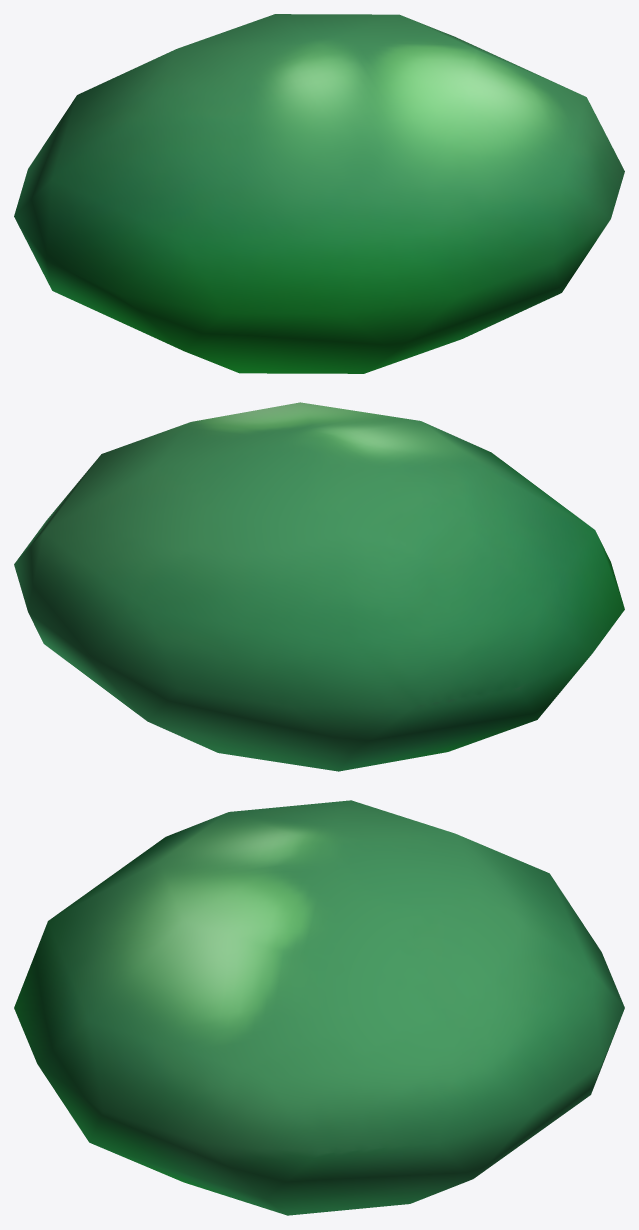
File: candypillgreen.fbx
3 views of the same model, one above another, from view 1: azimuth 30°, elevation 25°; view 2: azimuth 150°, elevation 25°; view 3: azimuth 270°, elevation 25° (orthographic). The views are drawn at different scales.
Parts seen in each view (by area): view 1: candypillgreen; view 2: candypillgreen; view 3: candypillgreen.
Boxes of the visible parts, bbox=[...] form: candypillgreen: bbox=[14, 14, 624, 373]; candypillgreen: bbox=[14, 402, 624, 771]; candypillgreen: bbox=[14, 800, 624, 1215].
Bounding box in the file's own units: 4.64 × 2.42 × 4.1.
